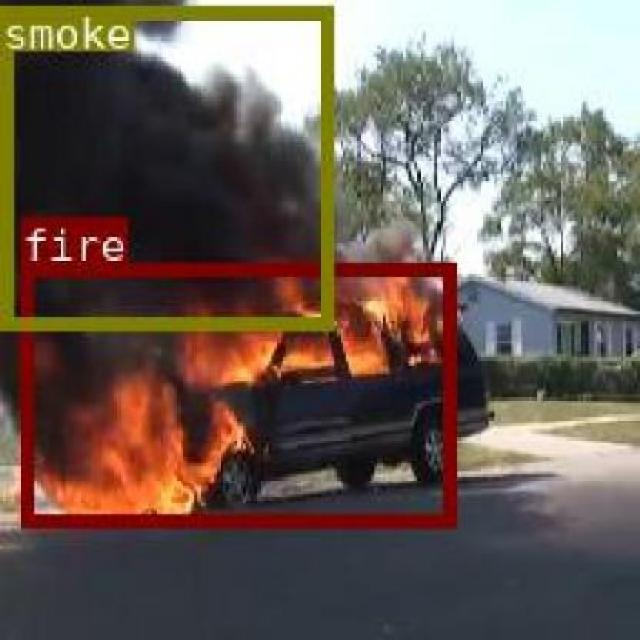Fire: (18, 261, 454, 524)
Smoke: (0, 4, 329, 327)
